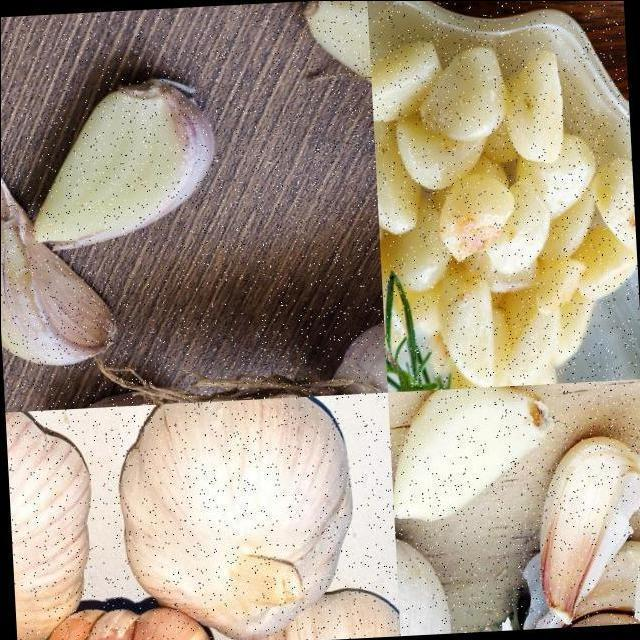garlic: (370, 35, 640, 392), (110, 395, 363, 640), (29, 70, 227, 246), (388, 384, 560, 522), (524, 427, 640, 622), (5, 409, 102, 640), (0, 211, 121, 379), (487, 541, 640, 631), (302, 0, 372, 114), (322, 308, 387, 394)
